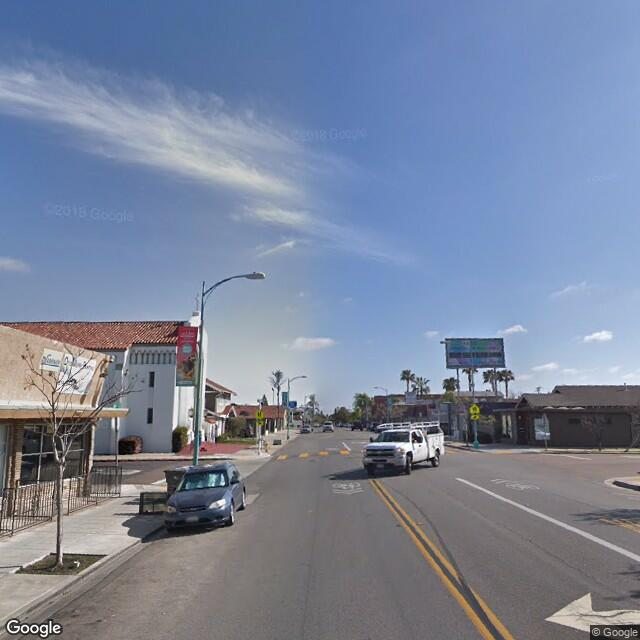light: (244, 270, 269, 280)
road line: (413, 509, 478, 589), (571, 511, 622, 560)
